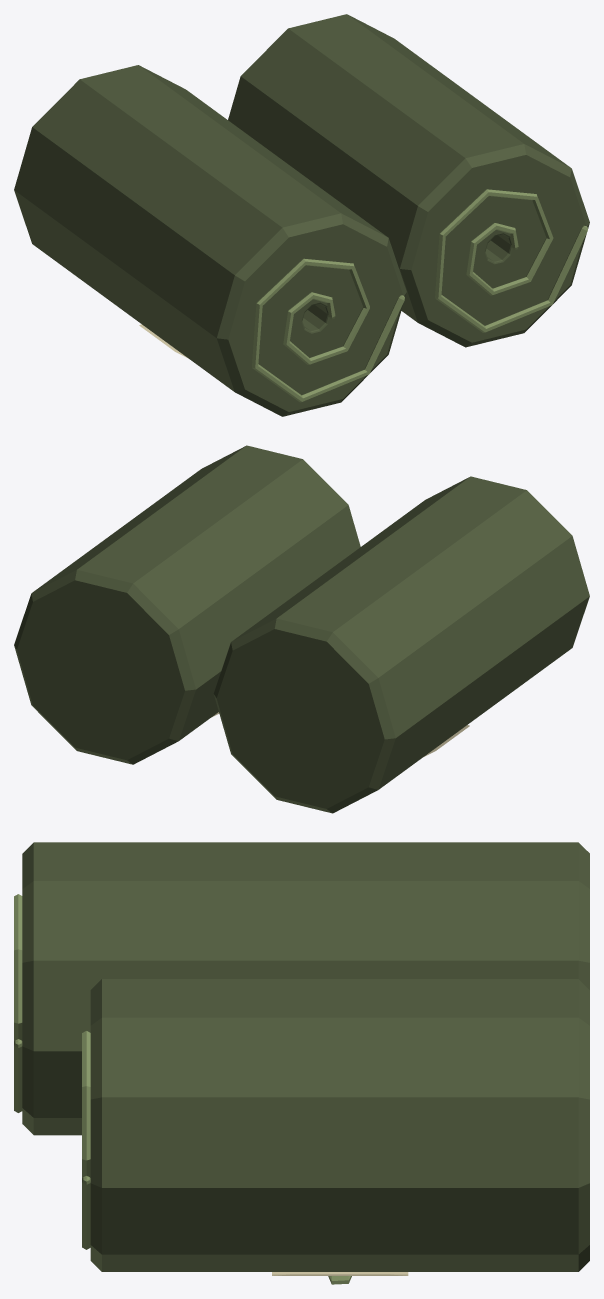
File: trash_bags.glb
3 renders of one model, top to bottom at view 1: azimuth 30°, elevation 25°; view 2: azimuth 150°, elevation 25°; view 3: azimuth 270°, elevation 25°, orthographic. The views are drawn at different scales.
Visible parts, largest first — view 1: trash_bags; view 2: trash_bags; view 3: trash_bags.
Part boxes in pixels (x1=…): trash_bags: x1=14, y1=14, x2=589, y2=416; trash_bags: x1=14, y1=445, x2=589, y2=813; trash_bags: x1=14, y1=842, x2=589, y2=1284.
Bounding box in the file's own units: 0.109 × 0.0524 × 0.1015.
